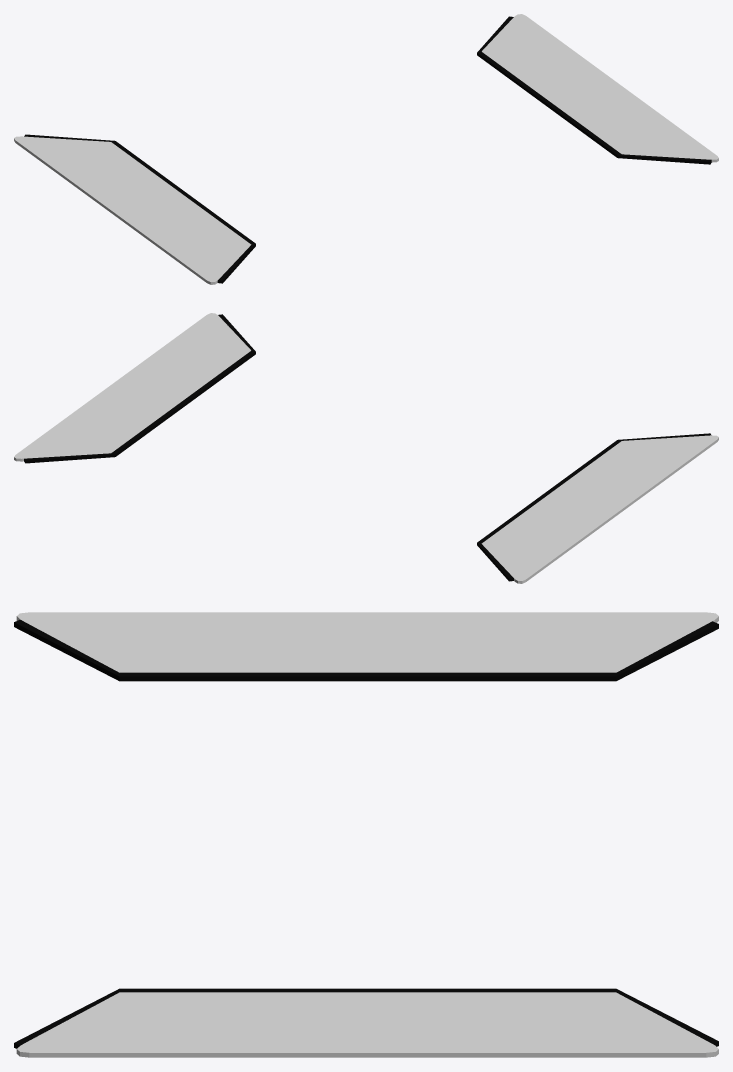
Rendered from TrotoarLuar.fbx.
The picture shows the model from 3 angles, top to bottom: view 1: azimuth 30°, elevation 25°; view 2: azimuth 150°, elevation 25°; view 3: azimuth 270°, elevation 25°; orthographic projection. The views are drawn at different scales.
Parts seen in each view (by area): view 1: TrotoarLuar; view 2: TrotoarLuar; view 3: TrotoarLuar.
Part boxes in pixels (x1,y1,x2,y2): TrotoarLuar: [14, 14, 718, 284]; TrotoarLuar: [14, 313, 718, 583]; TrotoarLuar: [14, 612, 718, 1057].
Bounding box in the file's own units: 4619 × 23.5 × 3124.
2 materials, 1 textured.
